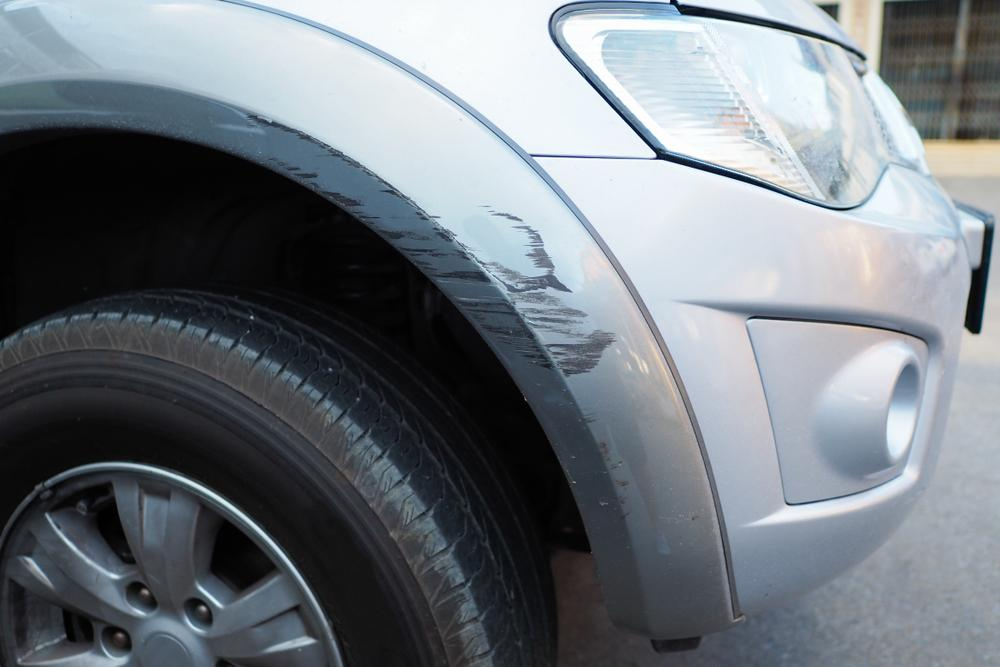scratch: (238, 106, 620, 383)
